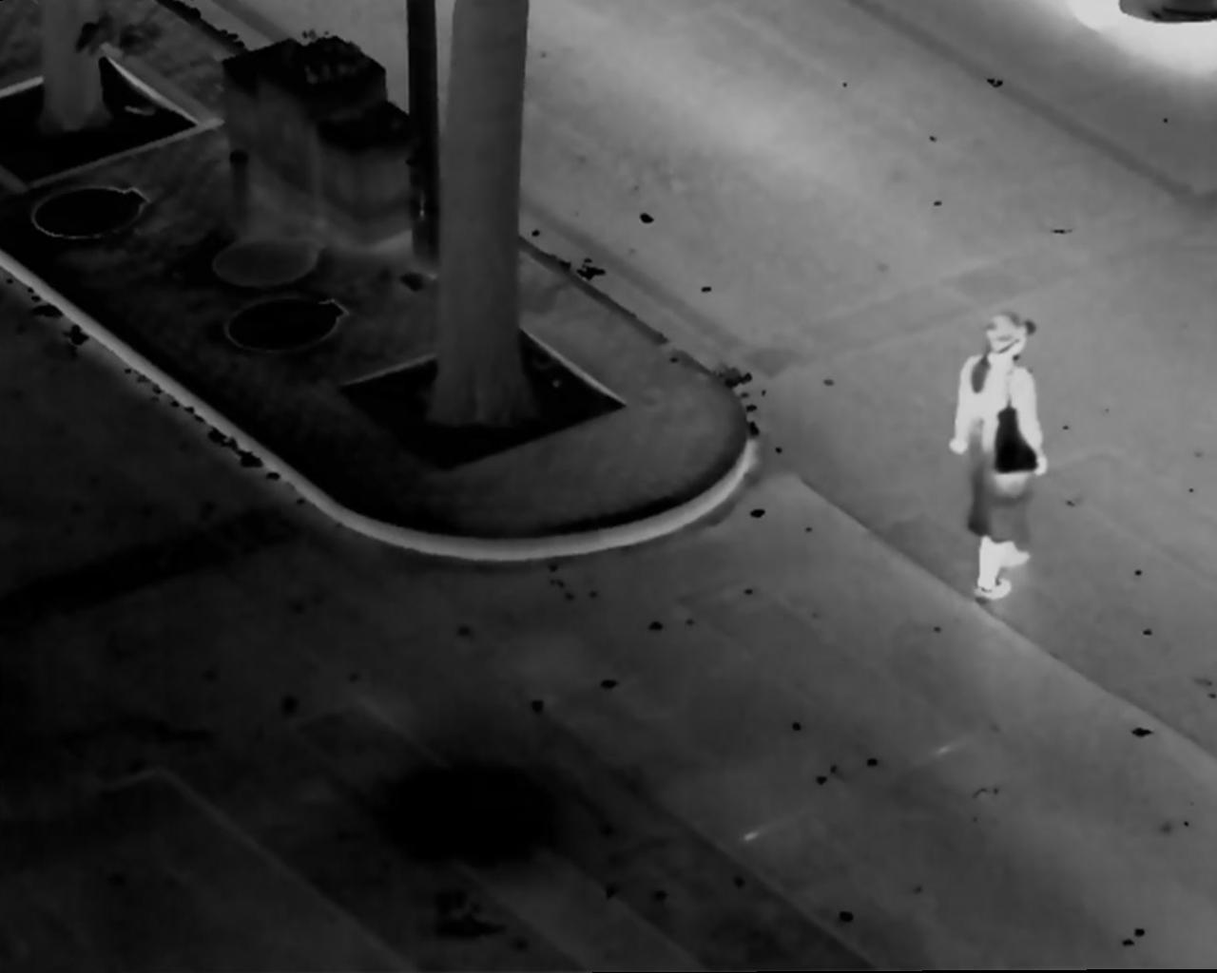person: (947, 307, 1055, 606)
